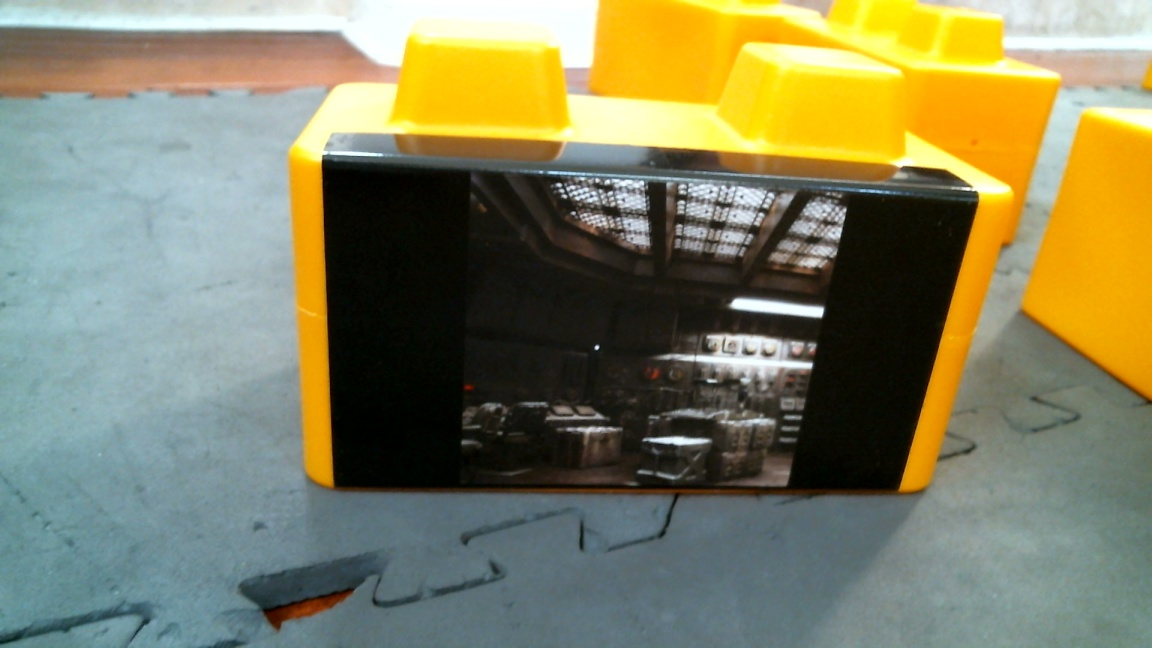skystone: (273, 28, 971, 483)
